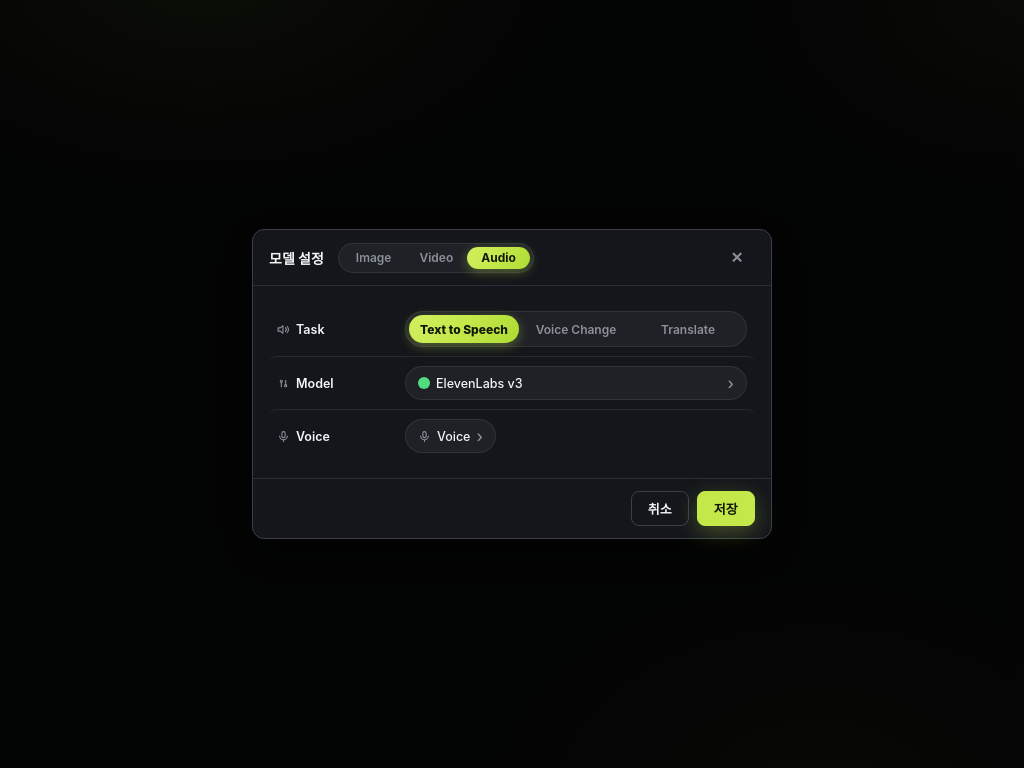
Codex H — 옵션 준비 전 선택·키보드 초점·빈 목록 › Voice 목록을 연 채 Voice Change 로 바꾸면, 옵션이 오기 전에는 열린 목록에서도 고르지 못한다(재검수 H-1)
Click the button "Voice ›". click: (450,436)
box: x1=405 y1=419 x2=496 y2=453
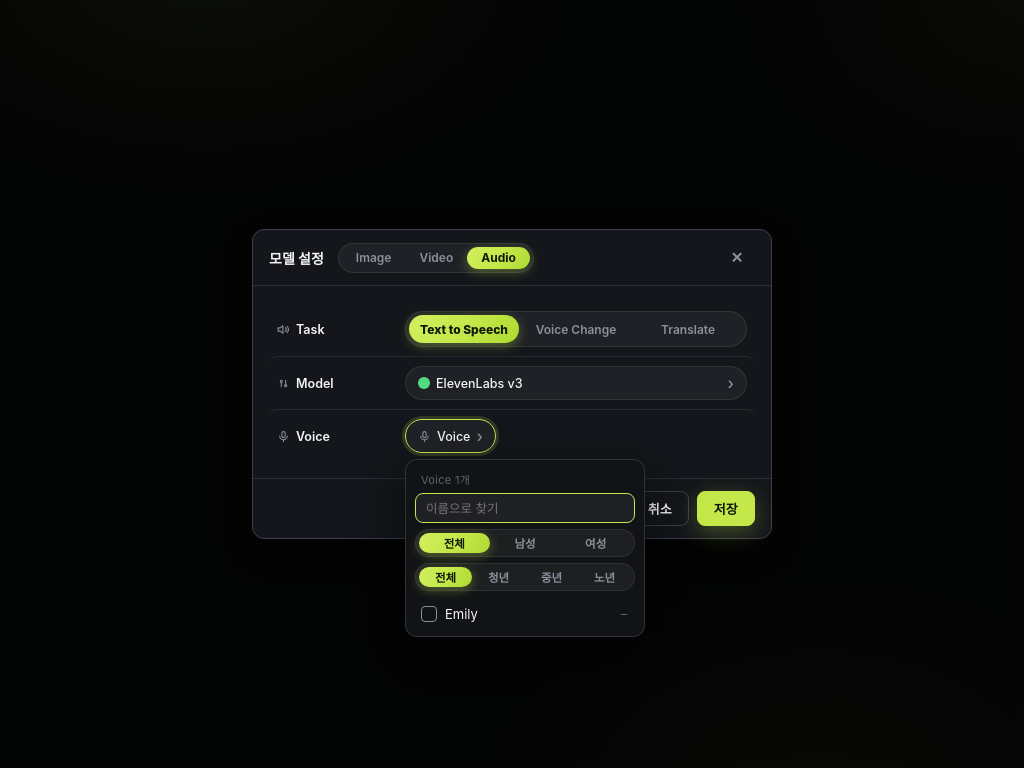
Now the element with class "sl-voice-pop" is shown, box x1=405 y1=459 x2=645 y2=637
Click the button "Voice Change". click: (576,329)
box: x1=521 y1=315 x2=631 y2=343
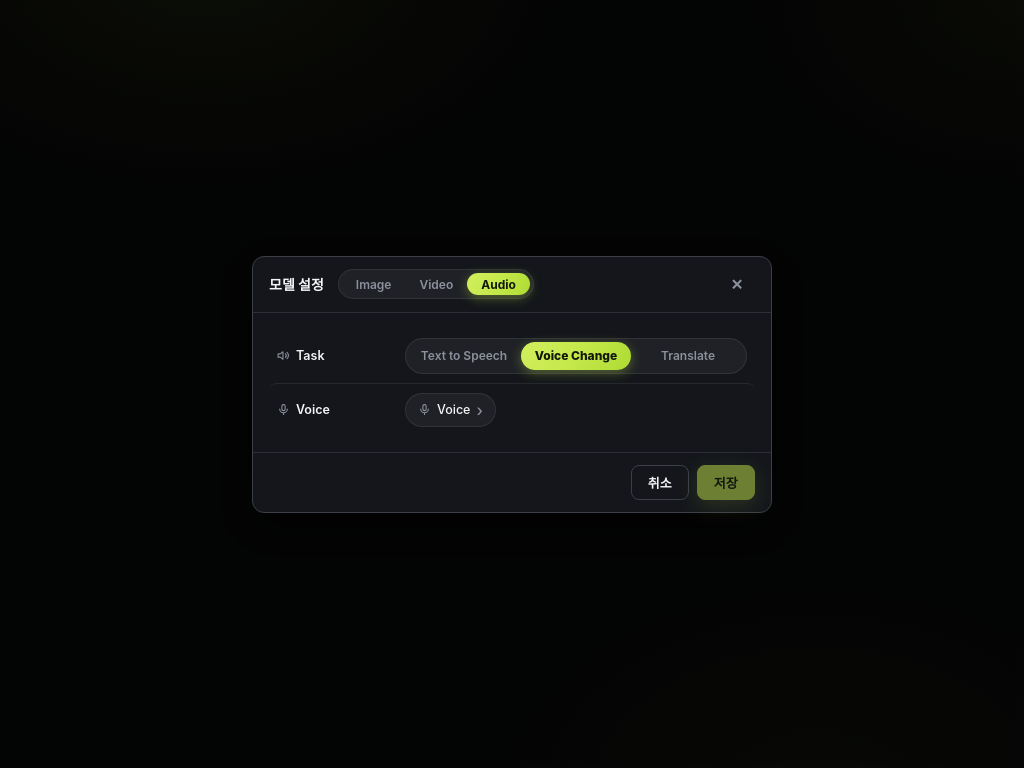
Now the button with class "sl-dd-item" is gone
Now the button "Voice ›" is collapsed
Click the button "Voice ›". click: (450,410)
box: x1=405 y1=392 x2=496 y2=426
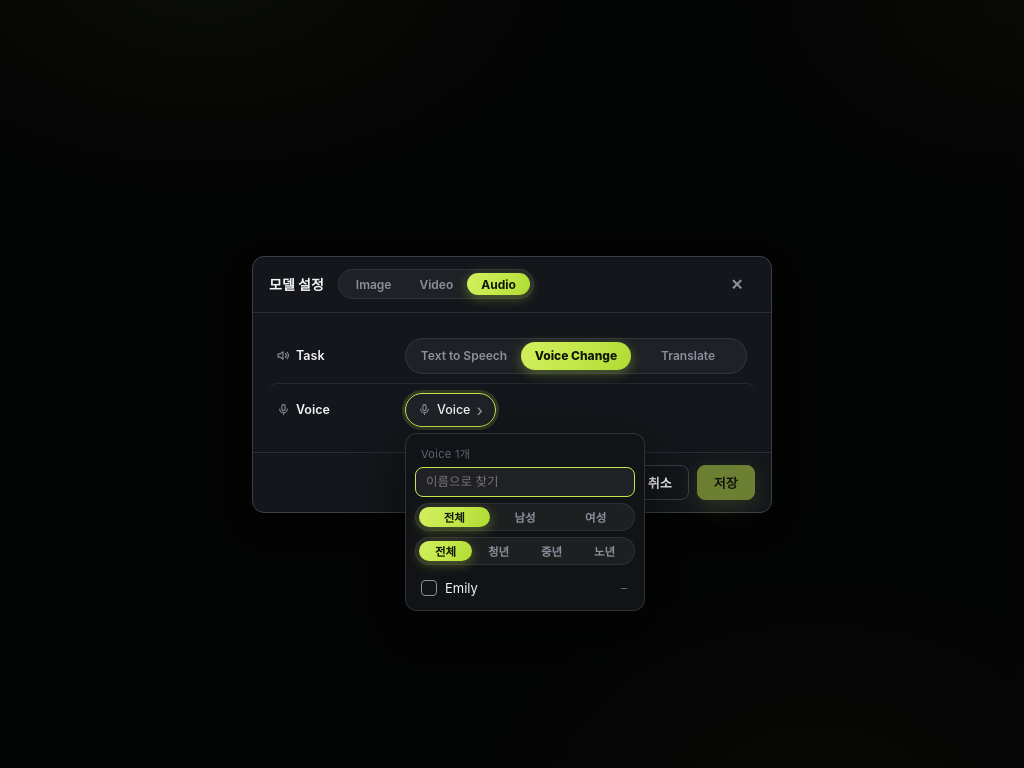
Click the button "Emily". click: (510,588)
box: x1=411 y1=570 x2=609 y2=604
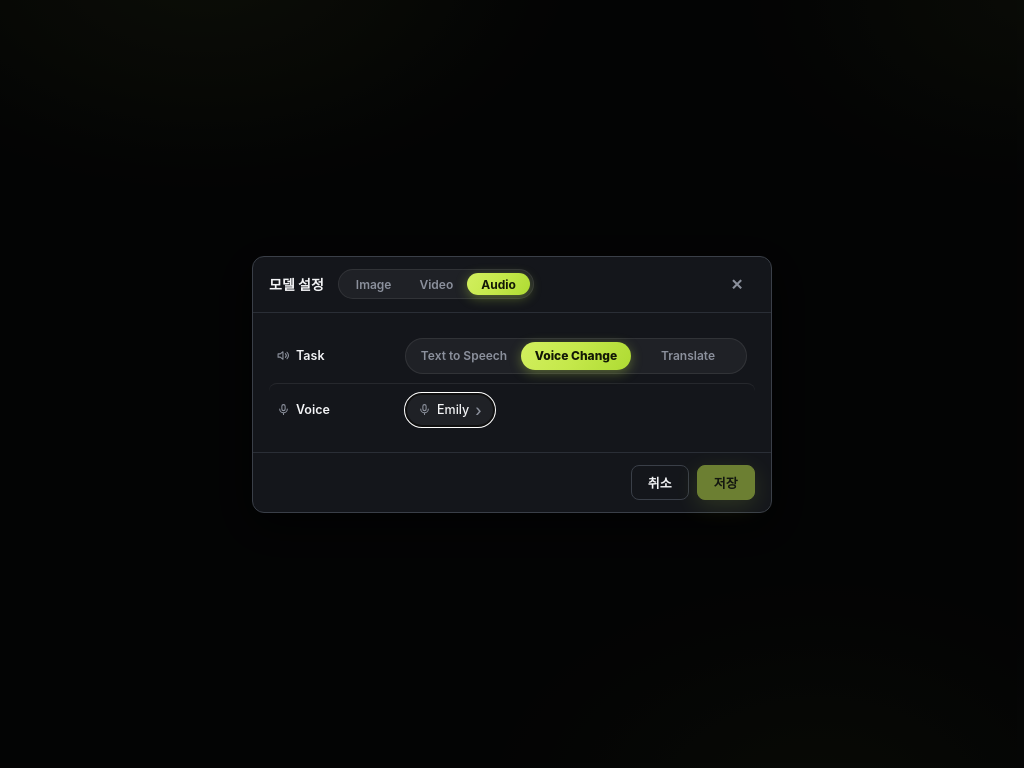
Now the text with class "sl-chip-label" reads "Emily", box x1=437 y1=402 x2=469 y2=417
